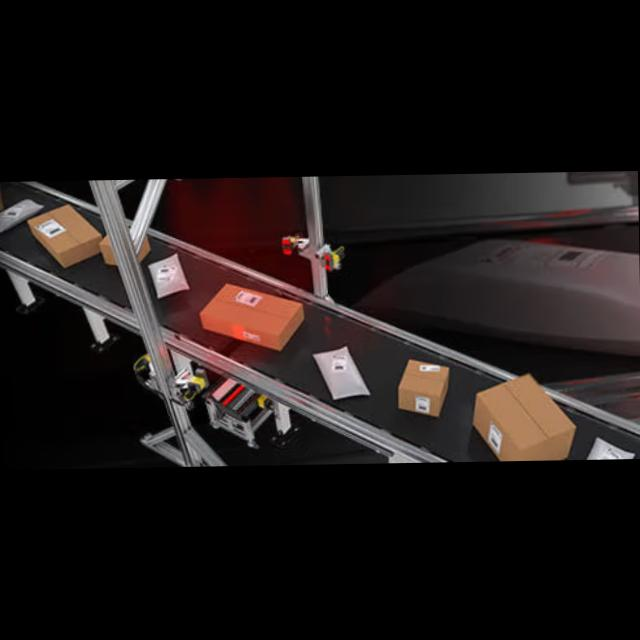box: (472, 373, 574, 462), (200, 284, 304, 352), (27, 206, 98, 266), (397, 358, 451, 418)
mailer: (314, 346, 370, 403), (148, 253, 190, 300), (0, 197, 40, 231), (584, 436, 634, 459)
